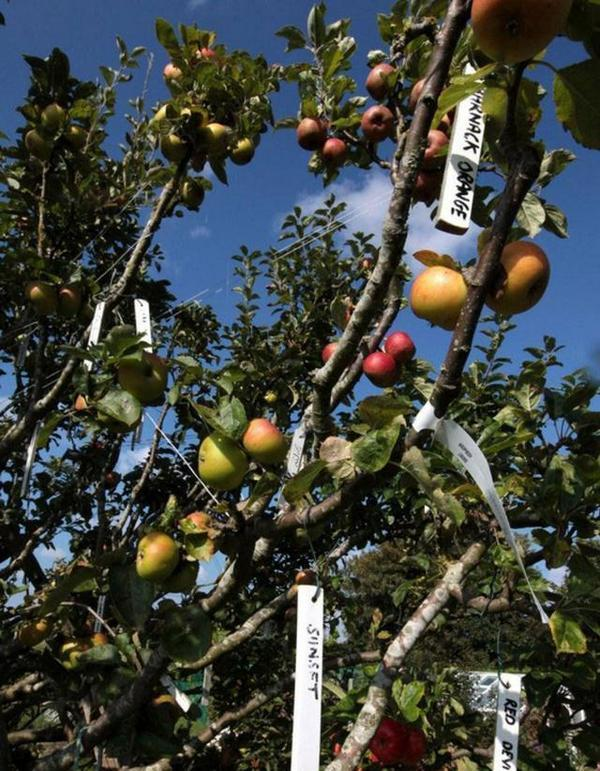apple: (465, 1, 572, 68), (484, 239, 551, 314), (407, 263, 467, 328), (115, 344, 167, 404), (195, 431, 248, 489), (132, 529, 179, 584), (239, 416, 287, 465), (360, 351, 398, 387), (359, 103, 395, 141), (295, 113, 329, 150), (364, 63, 392, 101), (385, 332, 416, 362), (320, 137, 346, 160)
